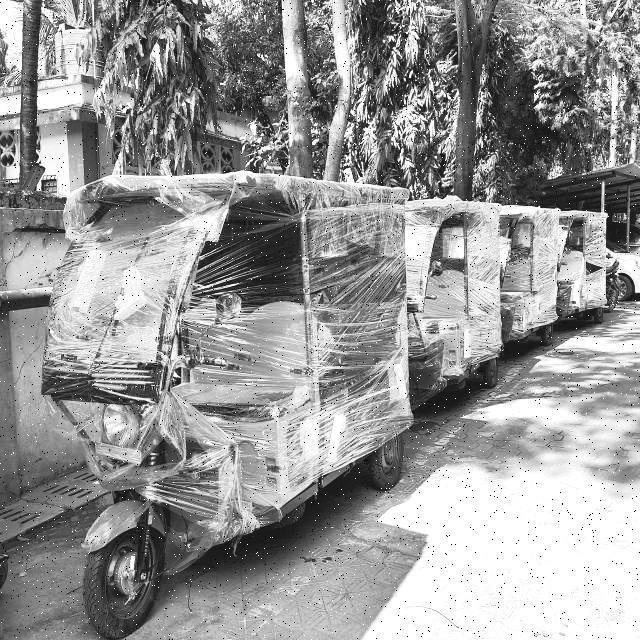Toto: (49, 170, 416, 640), (406, 197, 506, 423)
